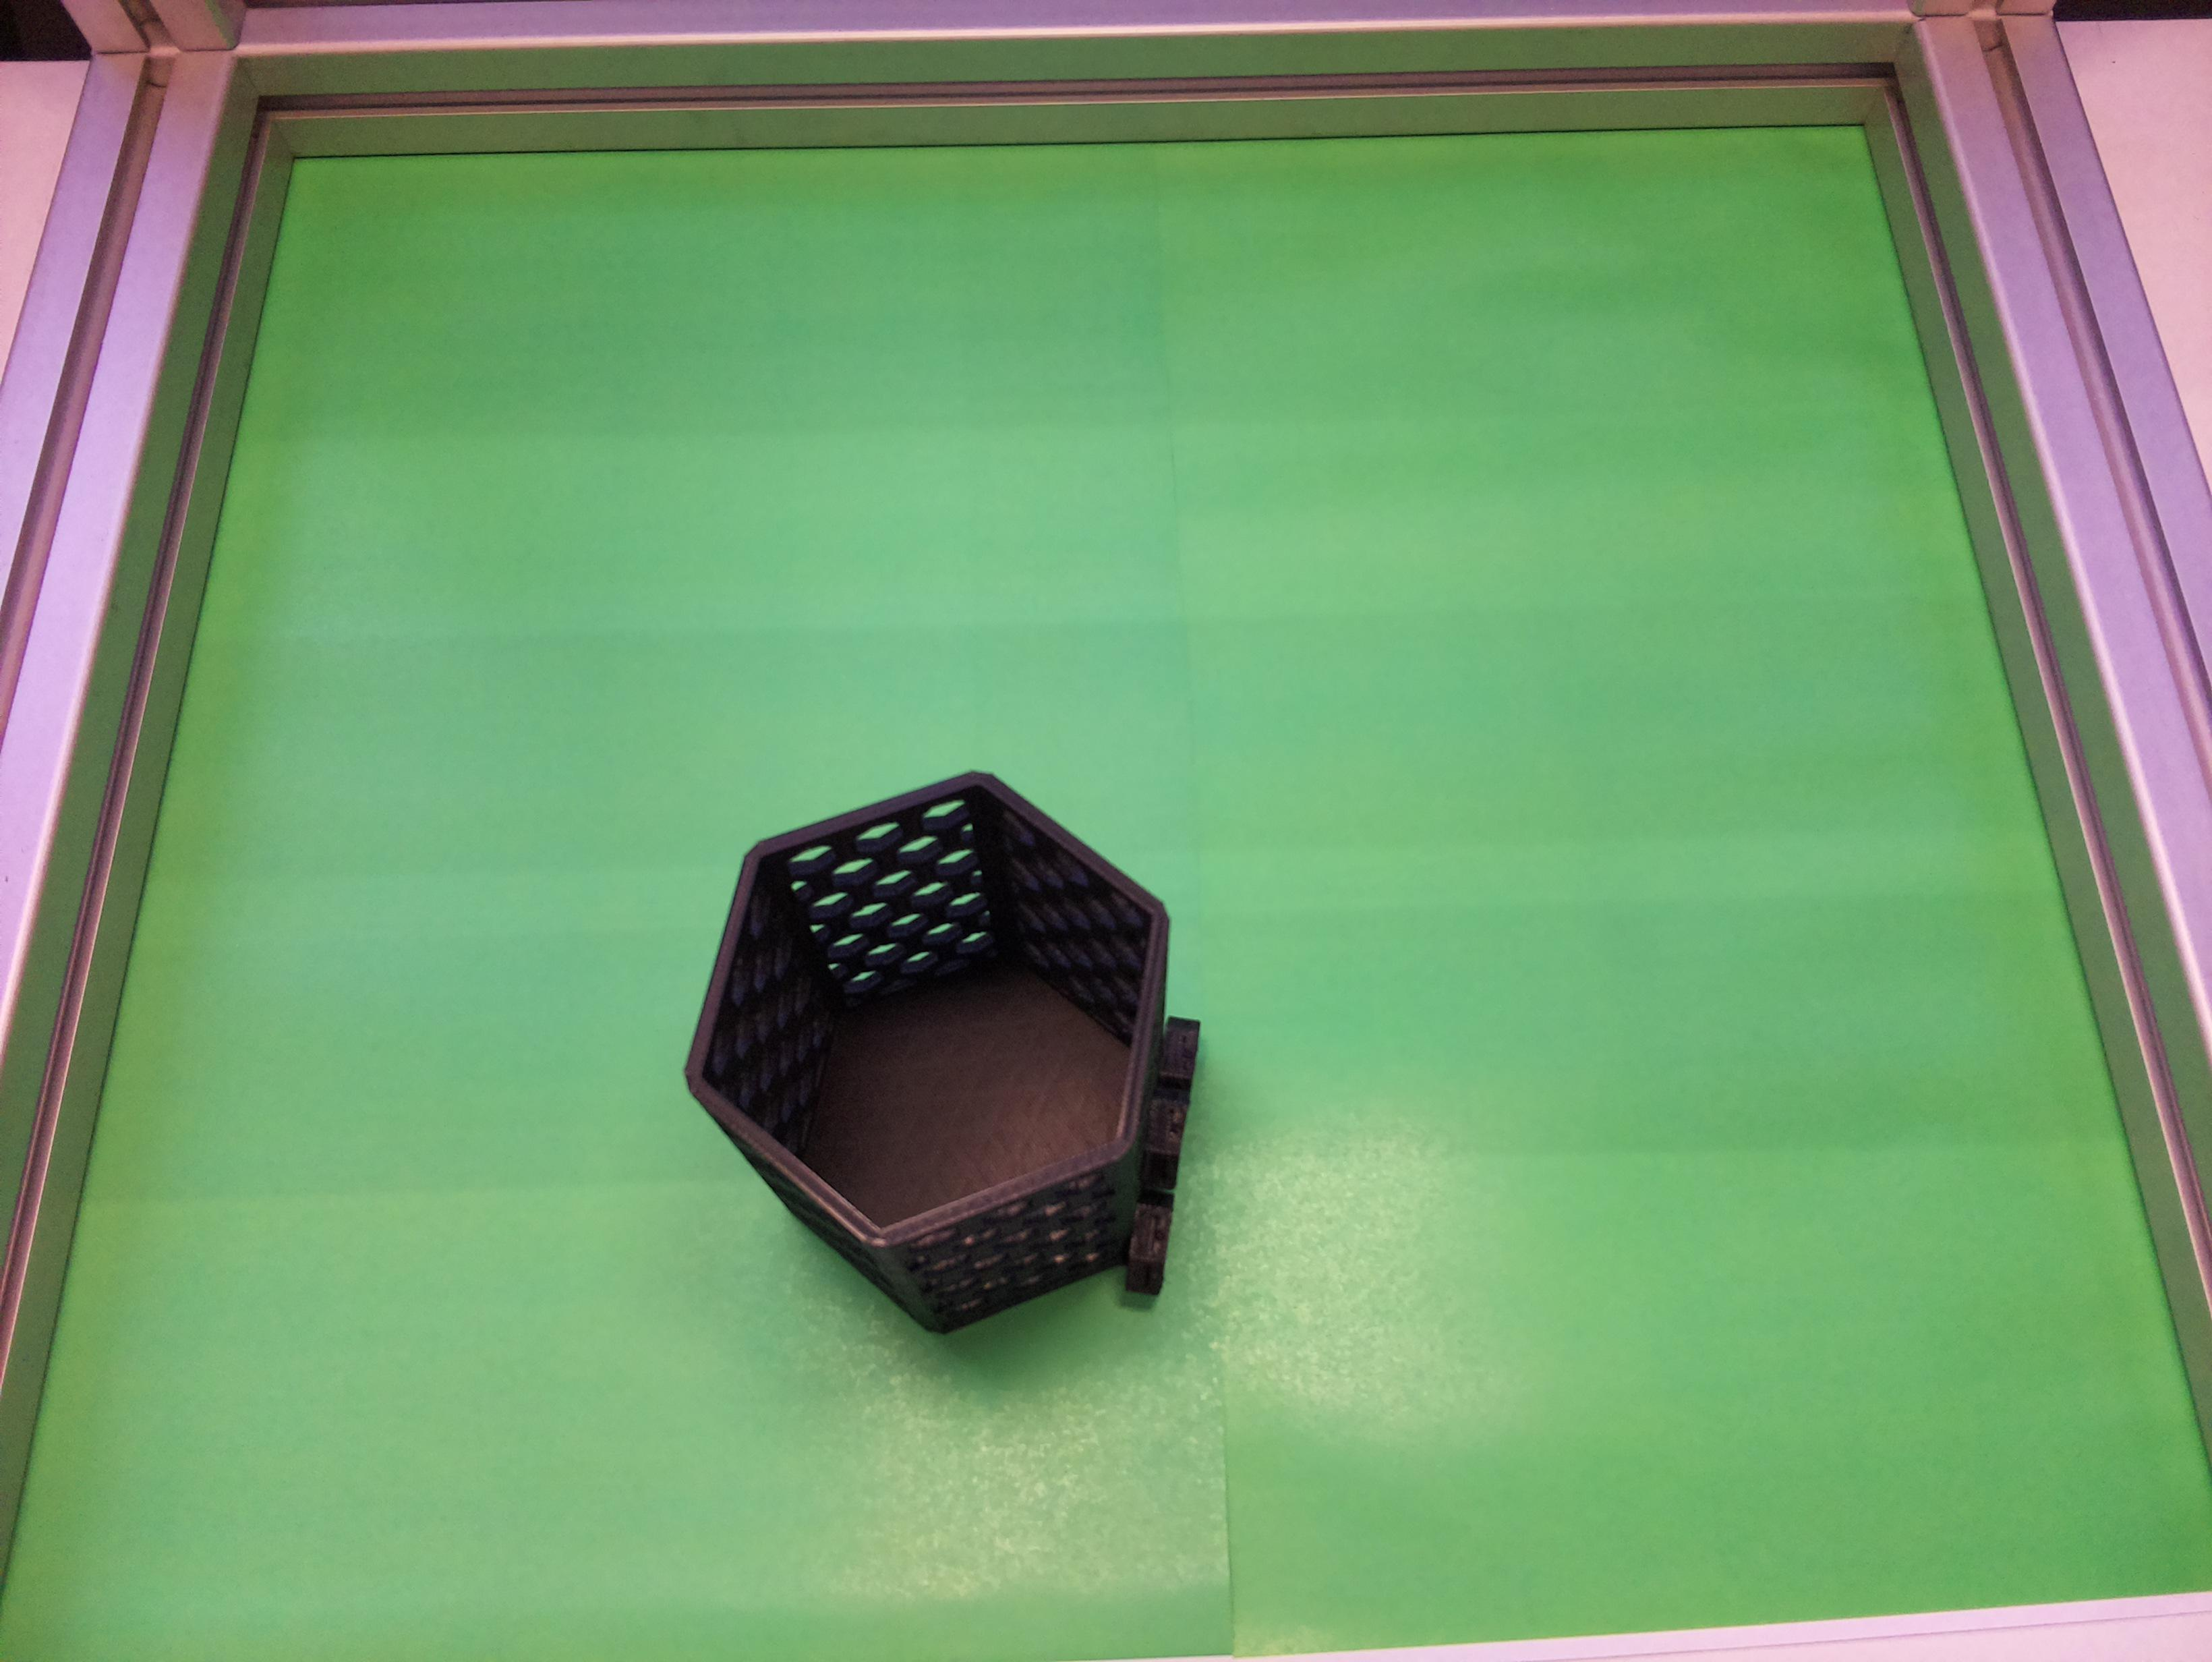cup_holder: (641, 742, 1243, 1369)
